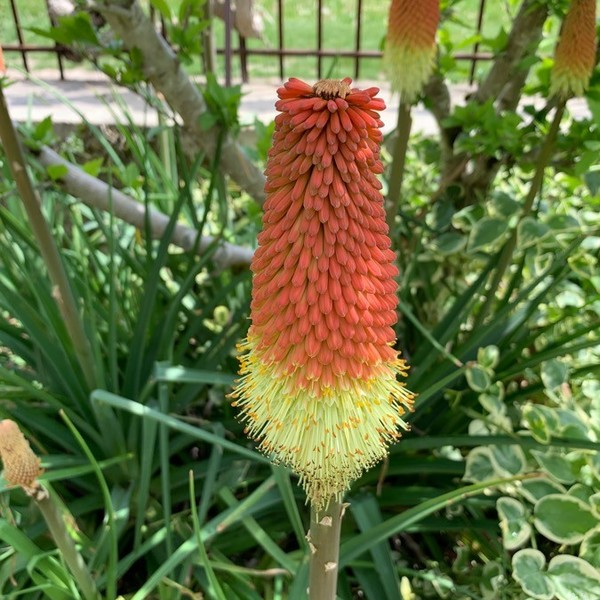obstacle: (242, 51, 398, 572), (17, 148, 217, 553), (448, 361, 589, 590), (460, 52, 576, 300)
